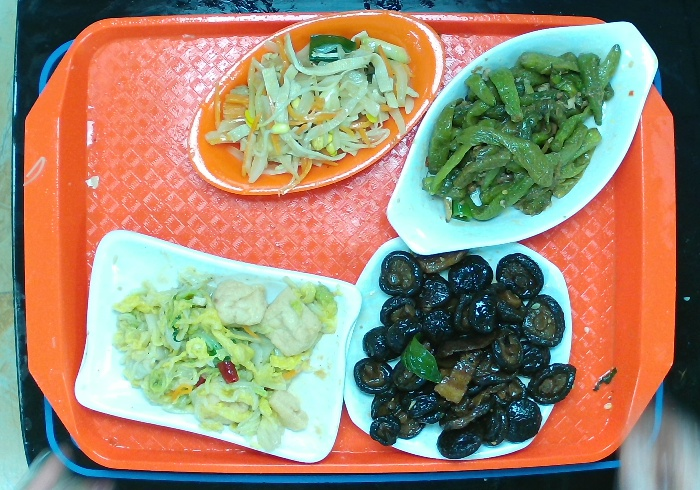RJxy-Ju_Huang_Tuo_Yuan: (185, 5, 444, 197)
RJxy-Si_Fang_Ao_Bian_Wan: (72, 227, 361, 467)
RJxy-Si_Fang_Die: (341, 234, 576, 461)
RJxy-Yu_Pan: (382, 22, 658, 260)
